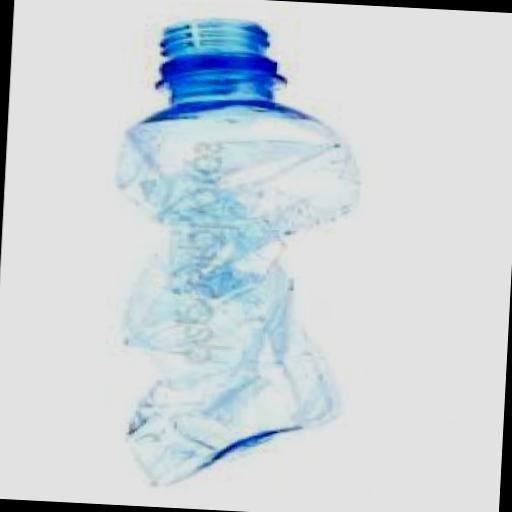plastic: (102, 16, 362, 498)
